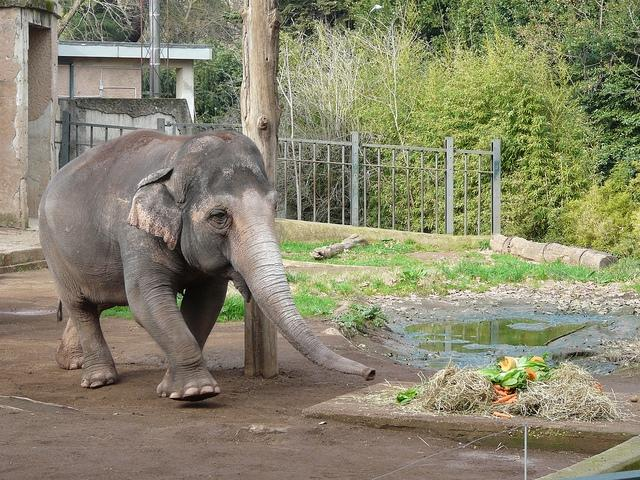carrot: (493, 412, 511, 419), (498, 396, 512, 403), (493, 384, 501, 390), (492, 400, 500, 404), (502, 387, 509, 391)
